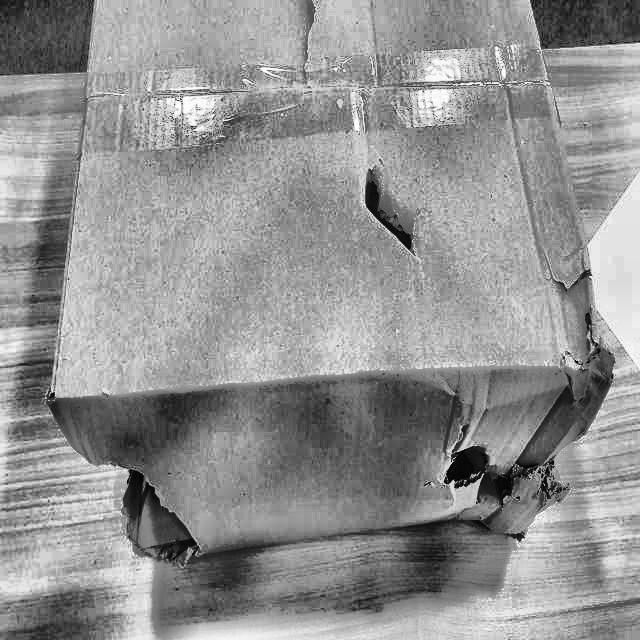box: (35, 0, 631, 575)
hole: (85, 446, 203, 552), (442, 421, 570, 506), (353, 158, 419, 270)
